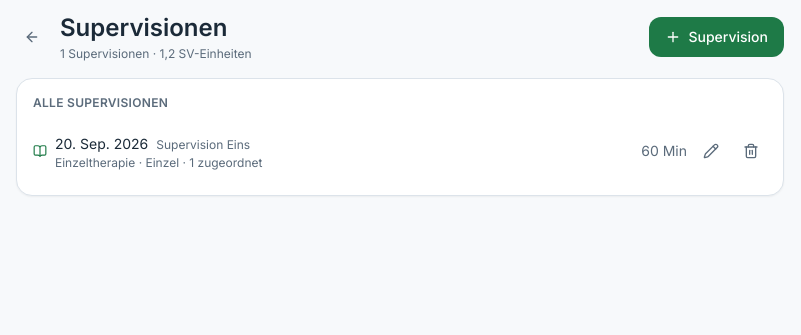
Test case: SupervisionClient › zeigt einen abgelehnten Löschaufruf (Netz weg) in der Zeile der Supervision
Click the button named "Supervision löschen".
click(751, 151)  # box [735,135,767,167]
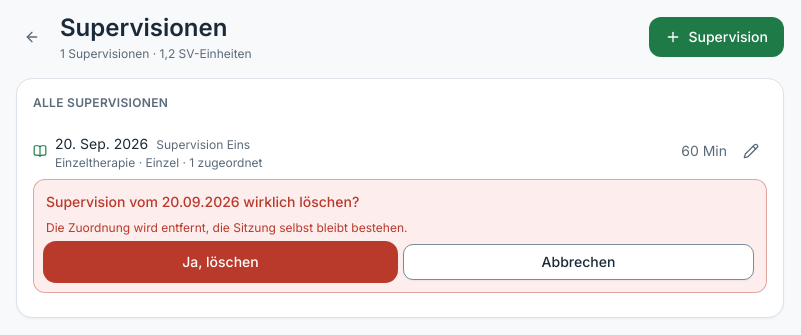
Click the button "Ja, löschen".
click(220, 262)  # box [46,244,395,280]
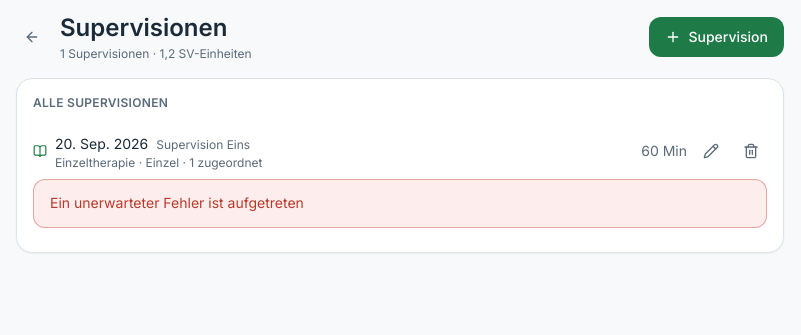
Now the message reads "Ein unerwarteter Fehler ist aufgetreten", box [50,194,304,211]
Now the message "Ein unerwarteter Fehler ist aufgetreten" is shown, box [33,179,767,228]
